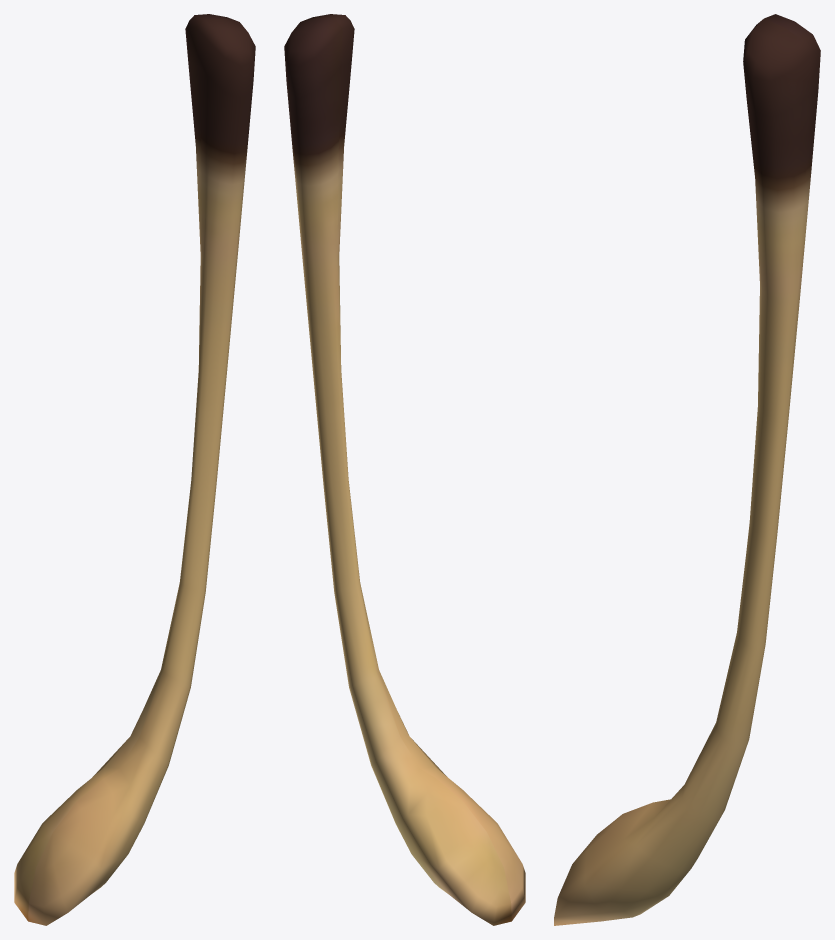
The model's file is Giraffe_Tail_0.FBX.
3 views of the same model, side by side, from view 1: azimuth 30°, elevation 25°; view 2: azimuth 150°, elevation 25°; view 3: azimuth 330°, elevation 25° (orthographic). The views are drawn at different scales.
Visible parts, largest first — view 1: Giraffe_Tail_0; view 2: Giraffe_Tail_0; view 3: Giraffe_Tail_0.
Boxes of the visible parts, left/top/right/bottom form: Giraffe_Tail_0: left=14, top=14, right=255, bottom=925; Giraffe_Tail_0: left=284, top=14, right=525, bottom=925; Giraffe_Tail_0: left=554, top=14, right=820, bottom=925.
Bounding box in the file's own units: 0.4876 × 1.83 × 0.2258.
